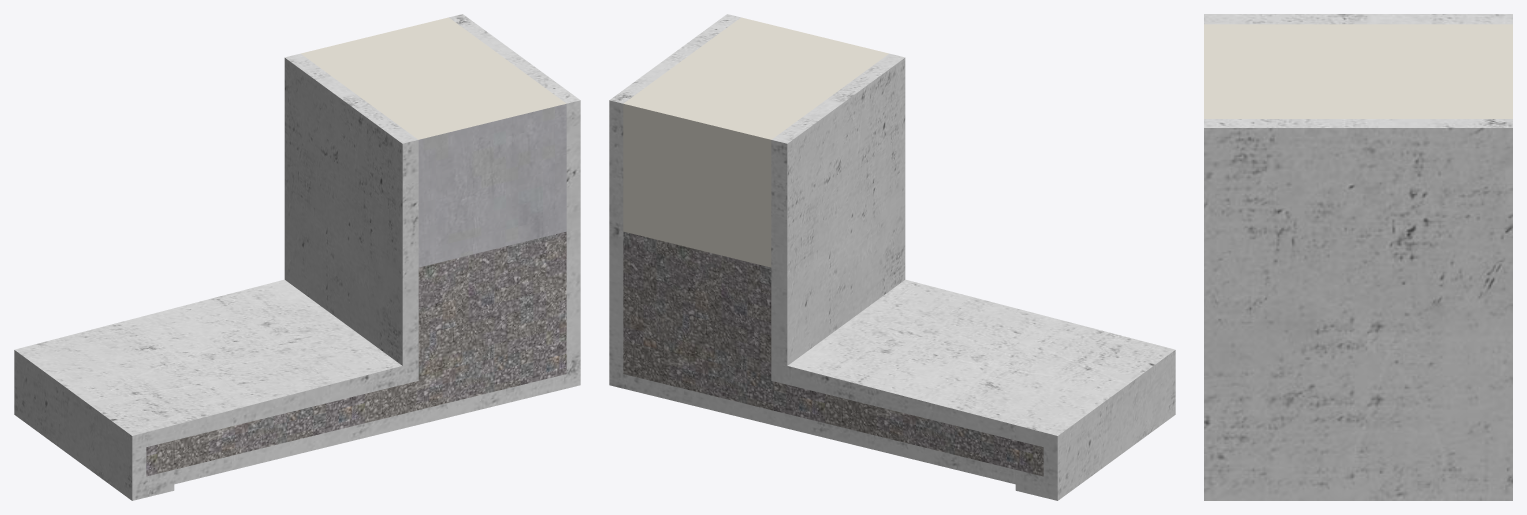
Rendered from window-hood.glb.
3 renders of one model, left to right at view 1: azimuth 30°, elevation 25°; view 2: azimuth 150°, elevation 25°; view 3: azimuth 270°, elevation 25°, orthographic. The views are drawn at different scales.
Visible parts, largest first — view 1: 外围包覆层, 墙, 带窗楣过梁; view 2: 外围包覆层, 墙, 带窗楣过梁; view 3: 外围包覆层, 墙.
Boxes of the visible parts, box(x1,y1,x2,y2) form: 外围包覆层: box(14, 14, 580, 500); 墙: box(301, 17, 566, 267); 带窗楣过梁: box(146, 231, 566, 476); 外围包覆层: box(609, 14, 1175, 500); 墙: box(623, 17, 888, 267); 带窗楣过梁: box(623, 231, 1043, 476); 外围包覆层: box(1204, 14, 1512, 500); 墙: box(1204, 24, 1512, 118).
Size of the model in its own units: 0.6588 by 0.4088 by 0.3.
Materials: 4 (3 with a texture image).
